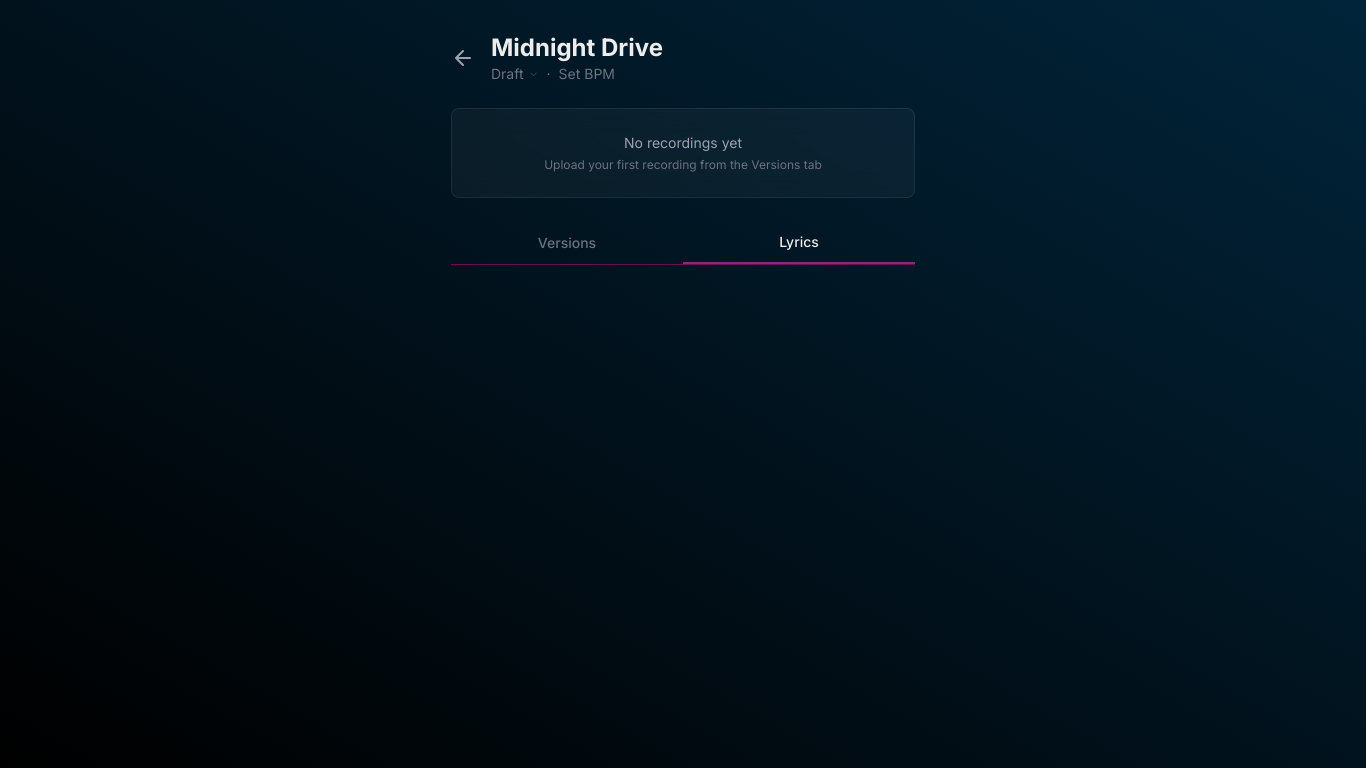
Scenario: SongDetailView › refreshes the router after a title change
Click the button titled "Click to edit" at (587, 48), box [491, 32, 683, 64]
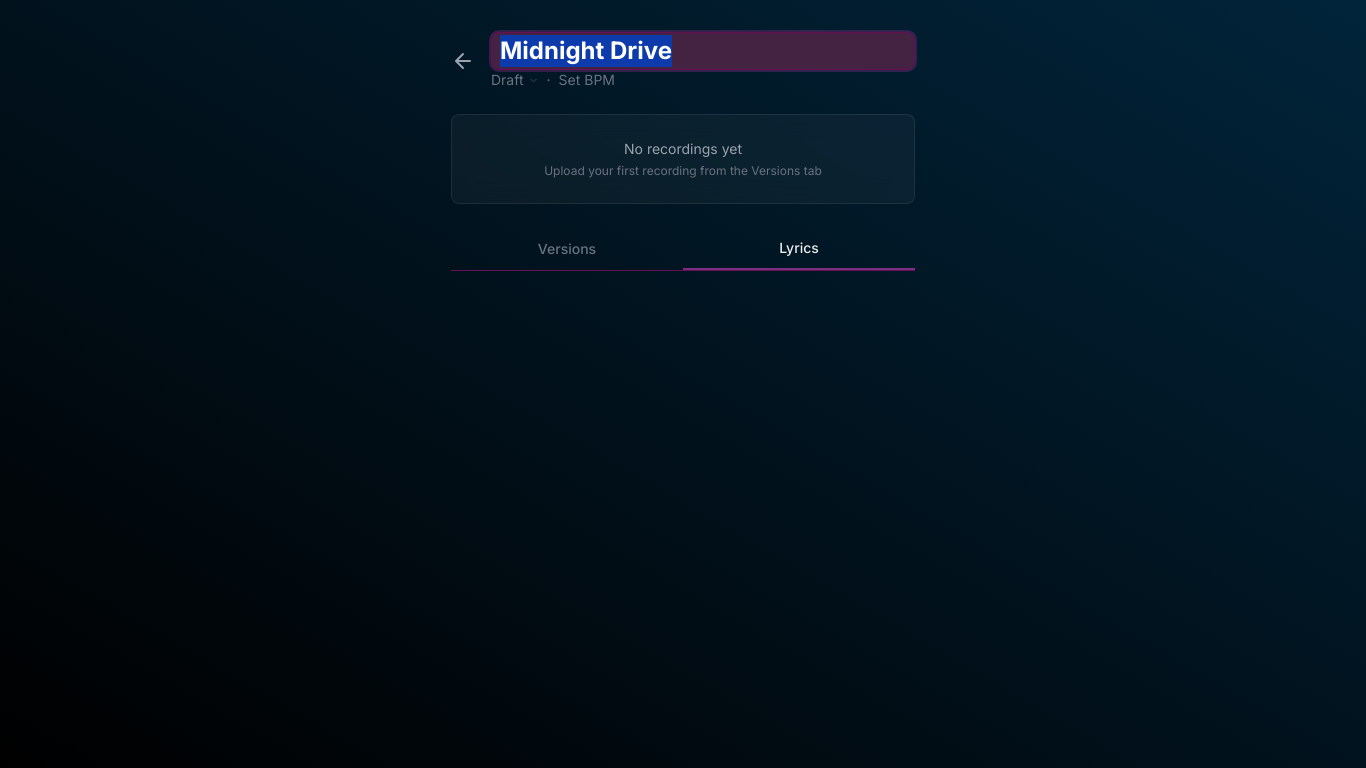
Replace the text in the field showing "Midnight Drive" with "Dawn Drive" at (703, 51), box [491, 32, 915, 70]
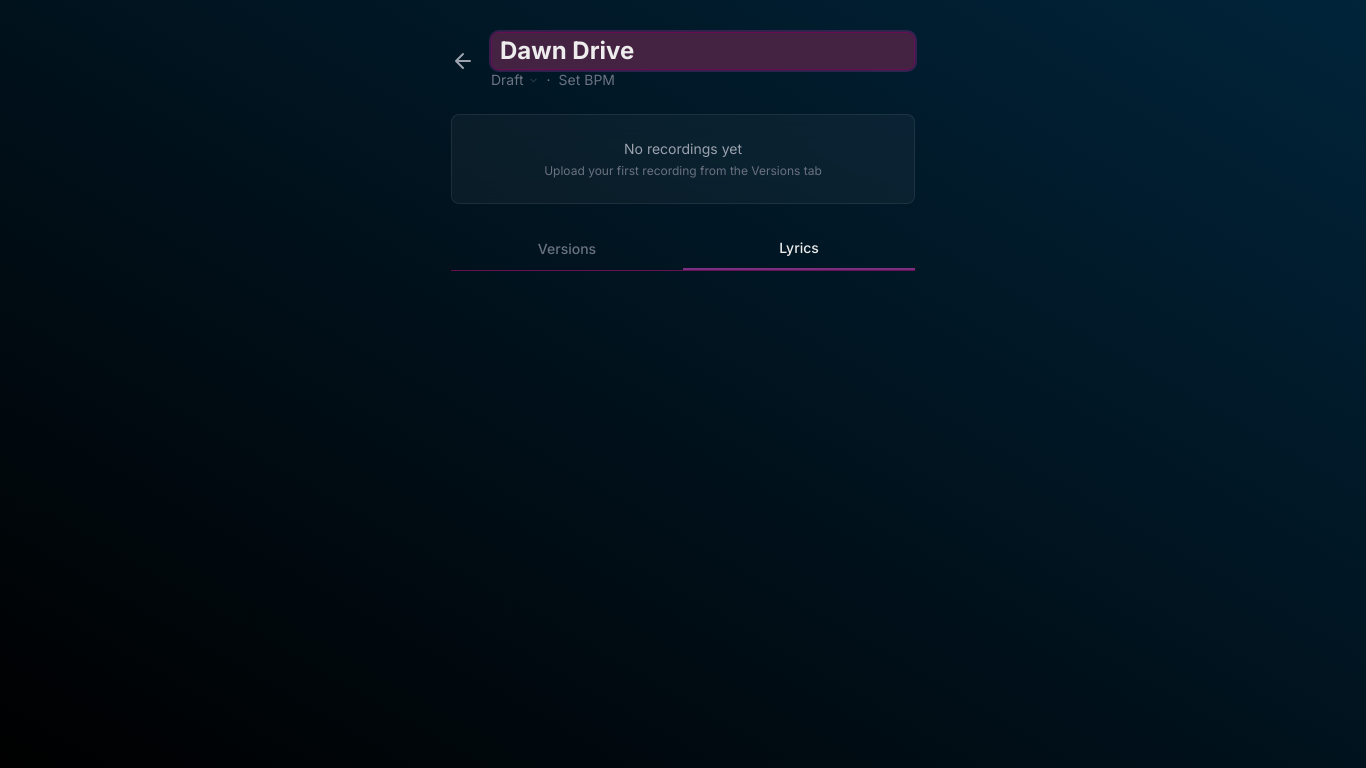
Press Enter in the field showing "Midnight Drive", box [491, 32, 915, 70]
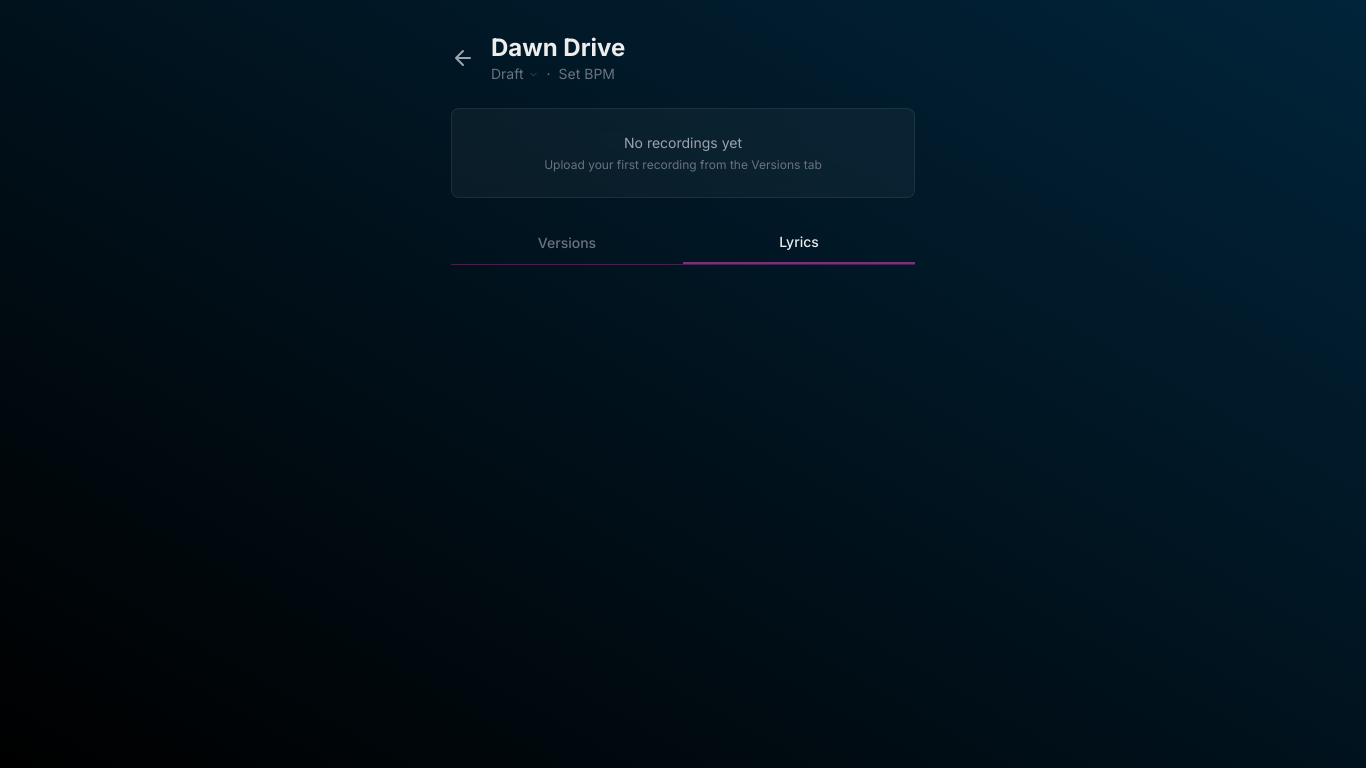
Now the heading "Dawn Drive" is shown, box [491, 32, 625, 64]
